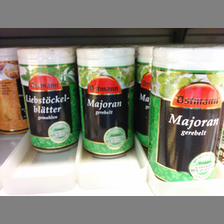spices: (147, 45, 224, 182), (16, 47, 80, 153), (76, 47, 136, 158)
